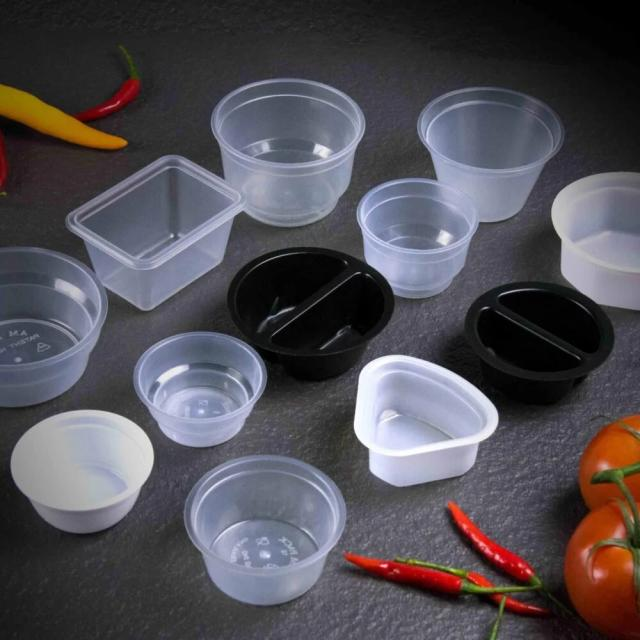Single-Use-Plastic: (66, 155, 245, 309), (185, 455, 346, 605), (211, 79, 365, 226), (228, 248, 394, 380), (418, 88, 564, 222), (354, 355, 499, 486), (465, 282, 615, 404), (11, 410, 154, 533), (0, 248, 108, 406), (134, 331, 266, 447), (356, 179, 479, 298), (551, 172, 640, 309)
